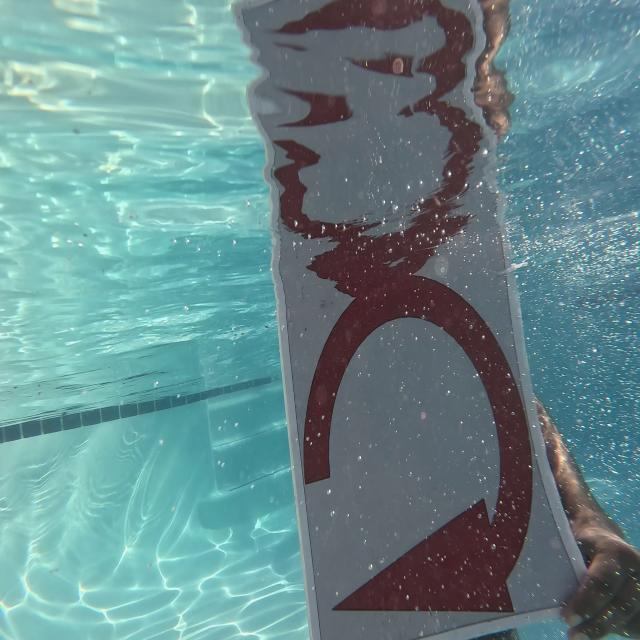red_side: (297, 263, 534, 622)
